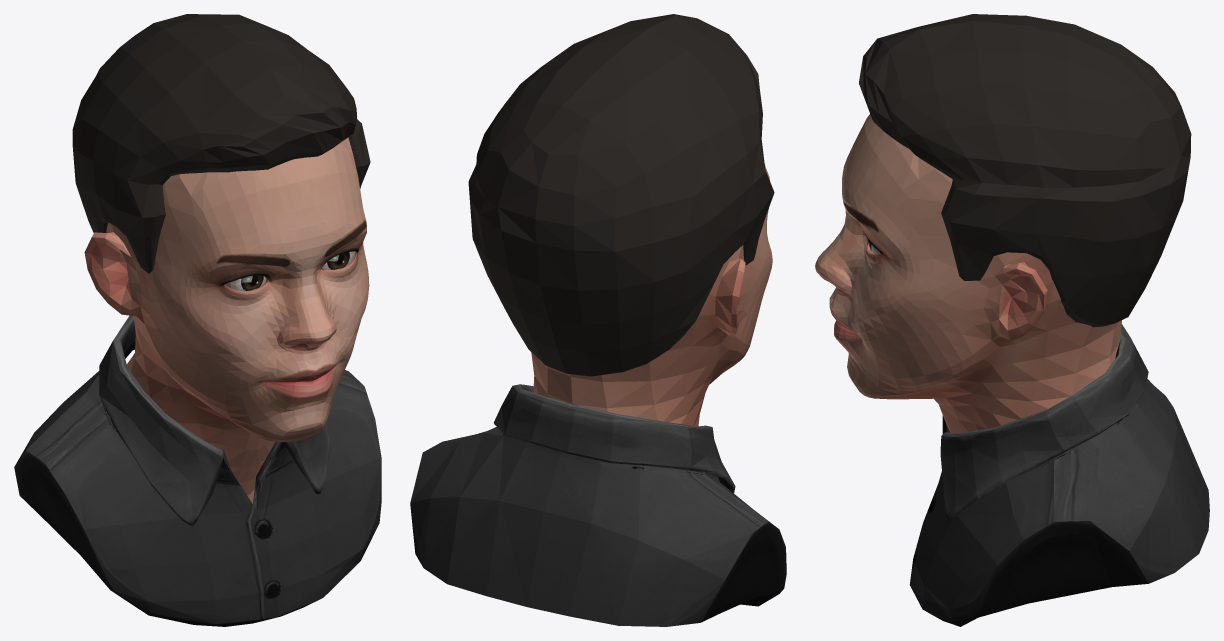
File: avatar.glb
3 views of the same model, side by side, from view 1: azimuth 30°, elevation 25°; view 2: azimuth 150°, elevation 25°; view 3: azimuth 270°, elevation 25° (orthographic). The views are drawn at different scales.
Size of the model in its own units: 0.2312 by 0.386 by 0.2413.
Materials: 1 (1 with a texture image).
